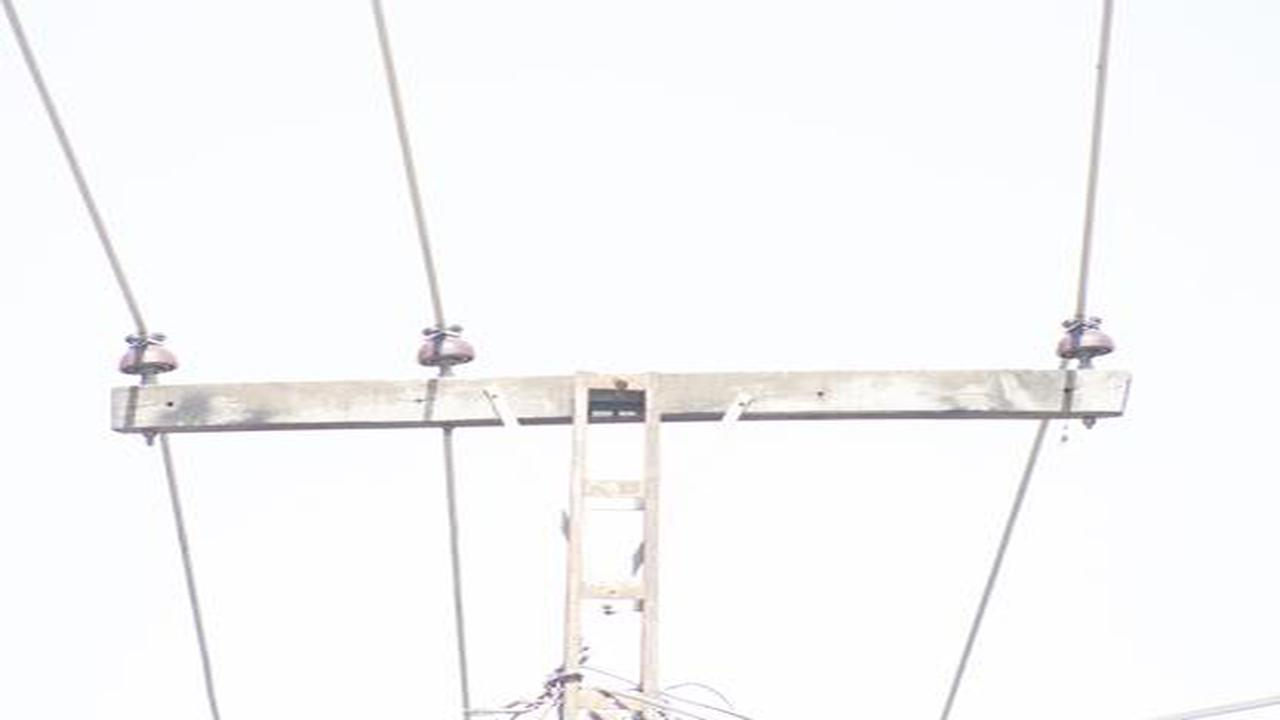insulator_pin: (410, 322, 479, 374), (114, 325, 181, 378), (1054, 314, 1119, 365)
